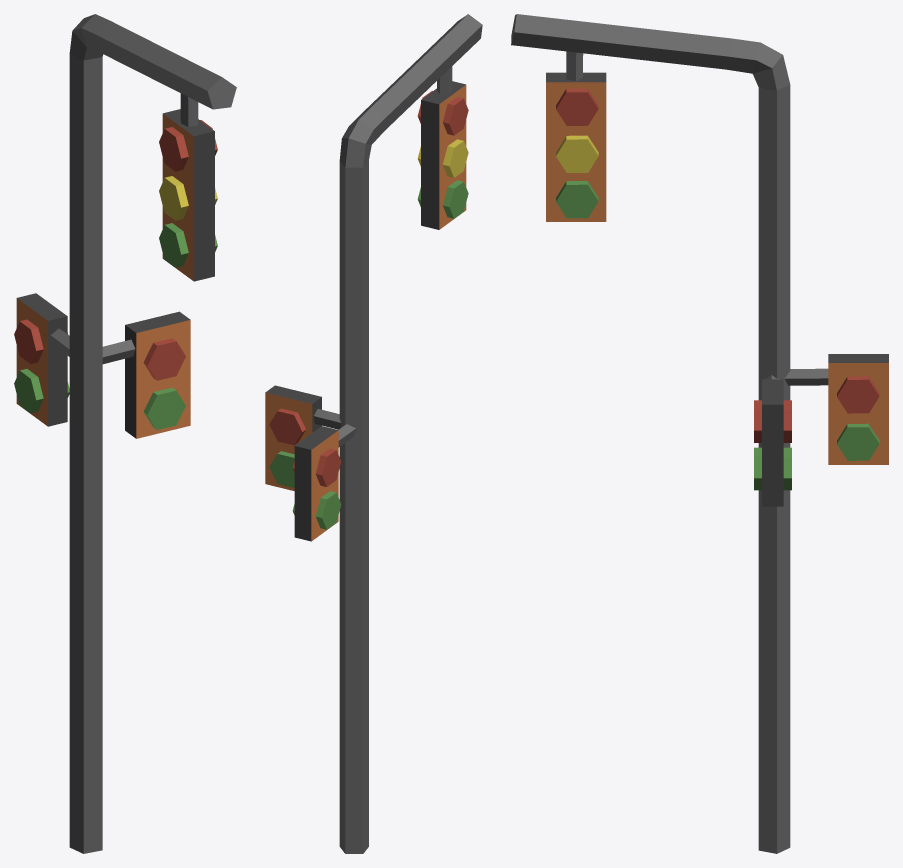
Rendered from pillar_003.glb.
The picture shows the model from 3 angles, left to right: view 1: azimuth 30°, elevation 25°; view 2: azimuth 150°, elevation 25°; view 3: azimuth 270°, elevation 25°; orthographic projection. The views are drawn at different scales.
Visible parts, largest first — view 1: pillar_003; view 2: pillar_003; view 3: pillar_003.
Part boxes in pixels (x1,y1,x2,y2): pillar_003: [14, 14, 236, 853]; pillar_003: [265, 14, 482, 853]; pillar_003: [511, 14, 888, 853].
Bounding box in the file's own units: 0.6875 × 4.88 × 2.
Materials: 1 (1 with a texture image).
